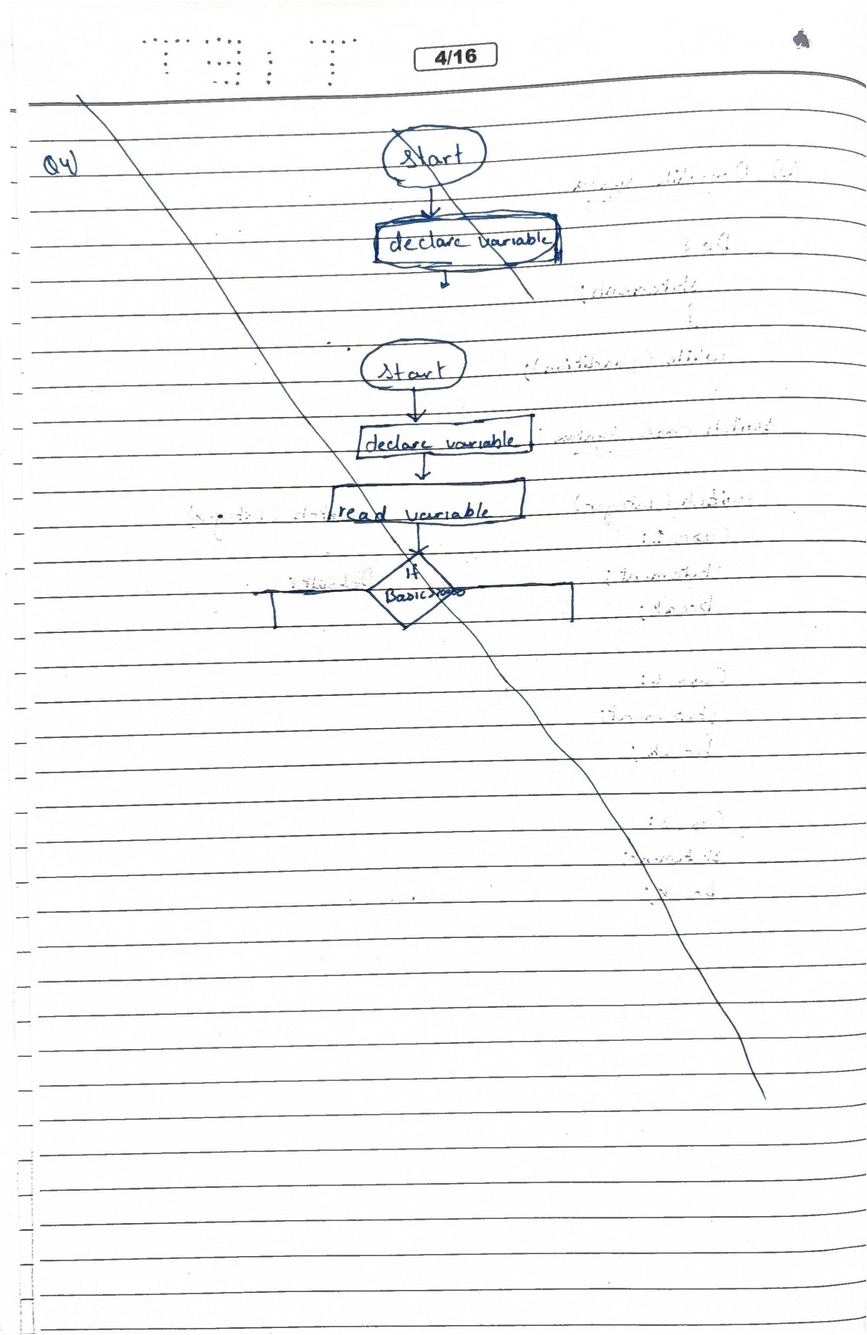cuttings: (78, 83, 788, 1117), (368, 117, 567, 311), (41, 149, 83, 181)
